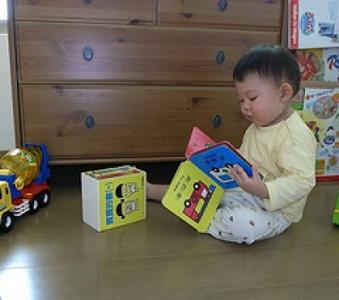person: (147, 44, 317, 245)
